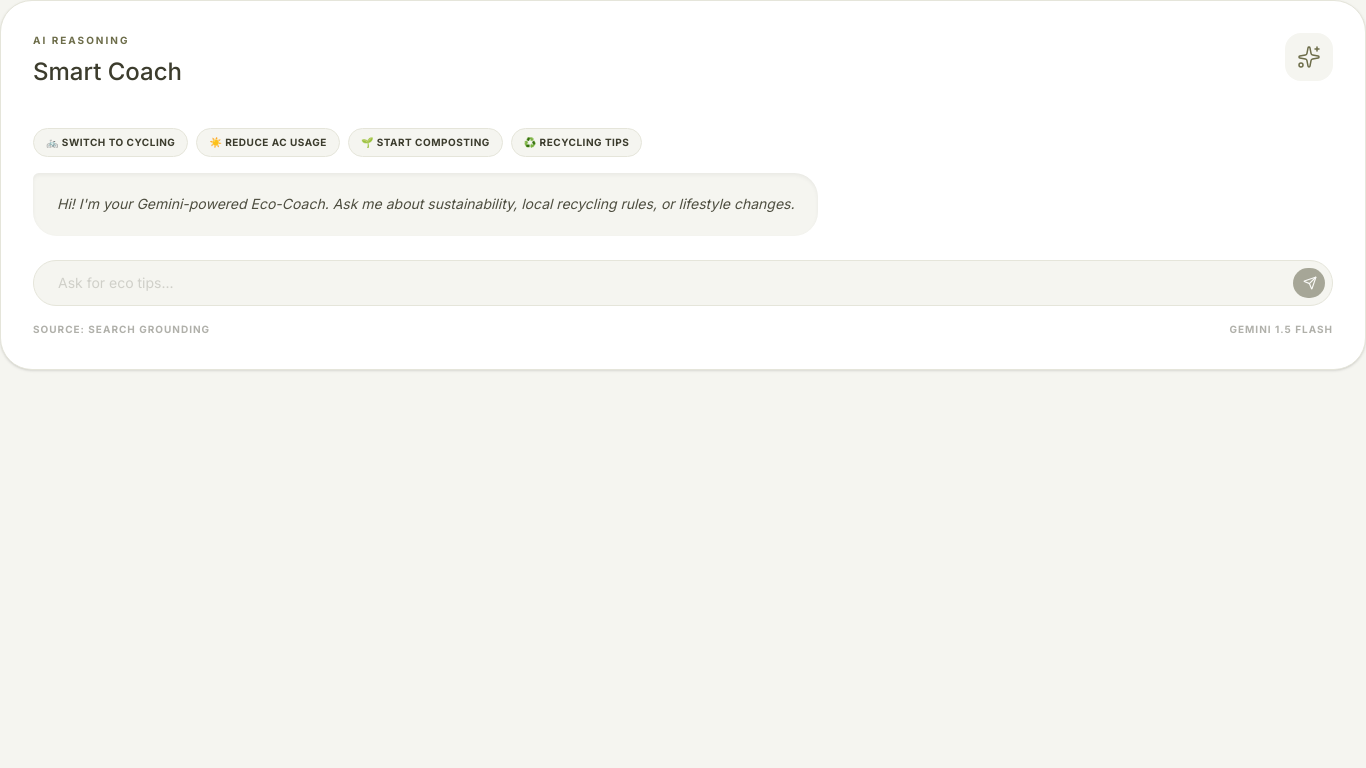
Test: EcoCoach › allows user to send a message and displays response
The width and height of the screenshot is (1366, 768).
Type "How to save energy?" into the field with placeholder "Ask for eco tips..." at (683, 283), box [33,260,1333,306]
Then press Enter
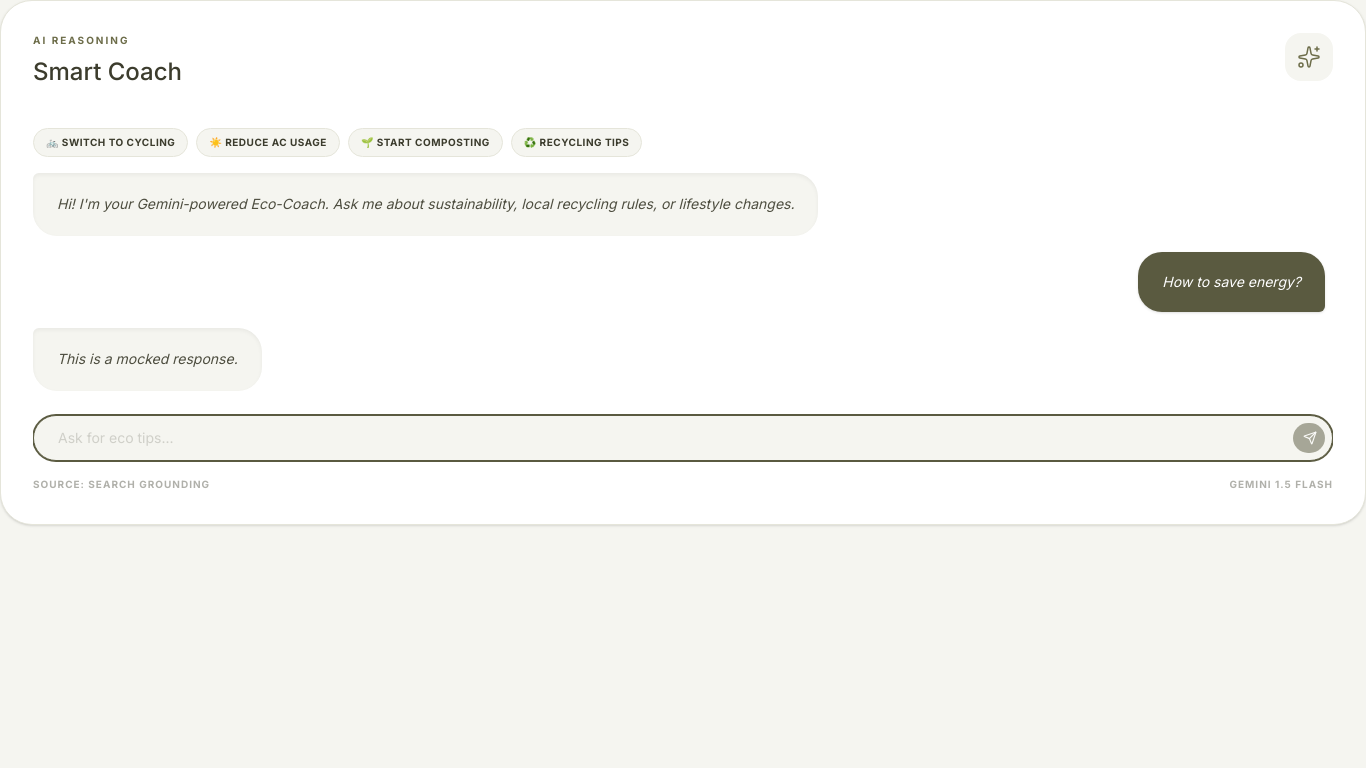
Expected: the text "How to save energy?" is shown, [1138,252,1325,312]
Expected: the text "This is a mocked response." is shown, [57,348,238,371]
